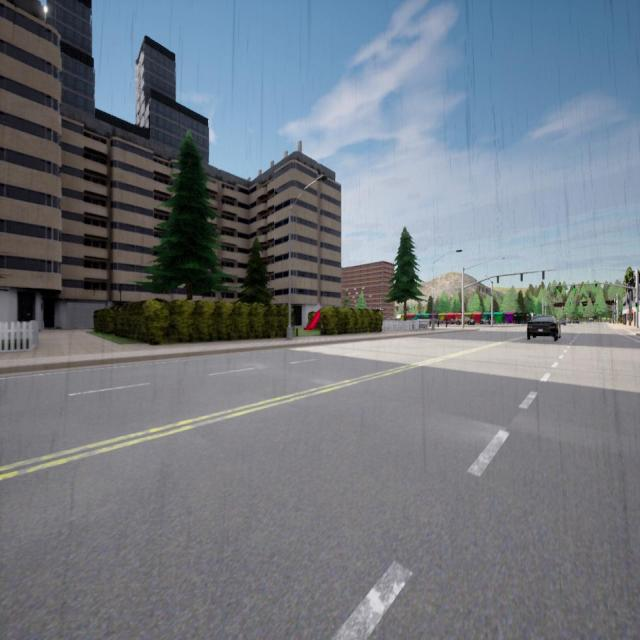Pedestrian: (446, 319, 448, 328), (429, 320, 431, 328), (438, 320, 440, 327)
Vehicle: (528, 315, 558, 341), (456, 316, 474, 324), (481, 319, 494, 324), (573, 318, 579, 324), (559, 320, 565, 325), (566, 320, 571, 324), (589, 318, 593, 322)
traffic_light: (542, 272, 545, 280), (635, 303, 638, 309), (497, 276, 499, 282), (520, 274, 522, 280), (574, 285, 576, 291), (556, 286, 558, 292), (595, 284, 597, 289)
